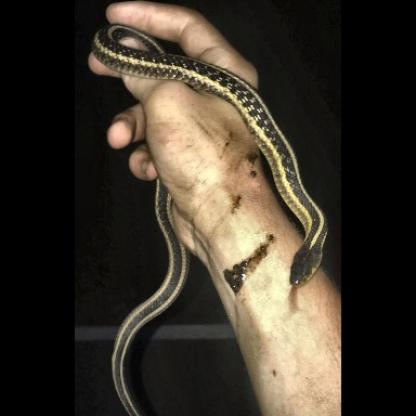Snake: (84, 20, 329, 289)
